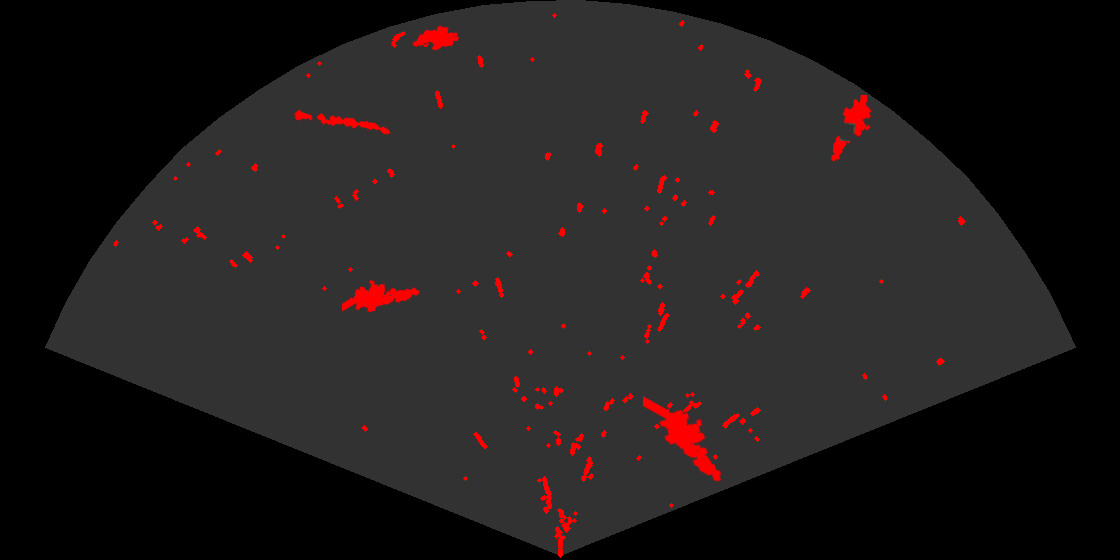AUV: (411, 24, 461, 52)
chain: (292, 108, 392, 136)
frogman: (643, 395, 723, 483), (830, 95, 873, 163), (342, 278, 421, 314)
